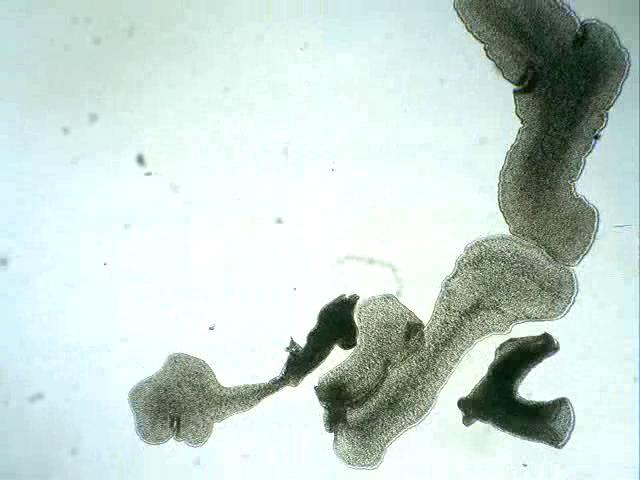Placozoan: (323, 232, 578, 470), (454, 0, 631, 266), (128, 293, 359, 447), (457, 332, 575, 450), (315, 296, 423, 408)
